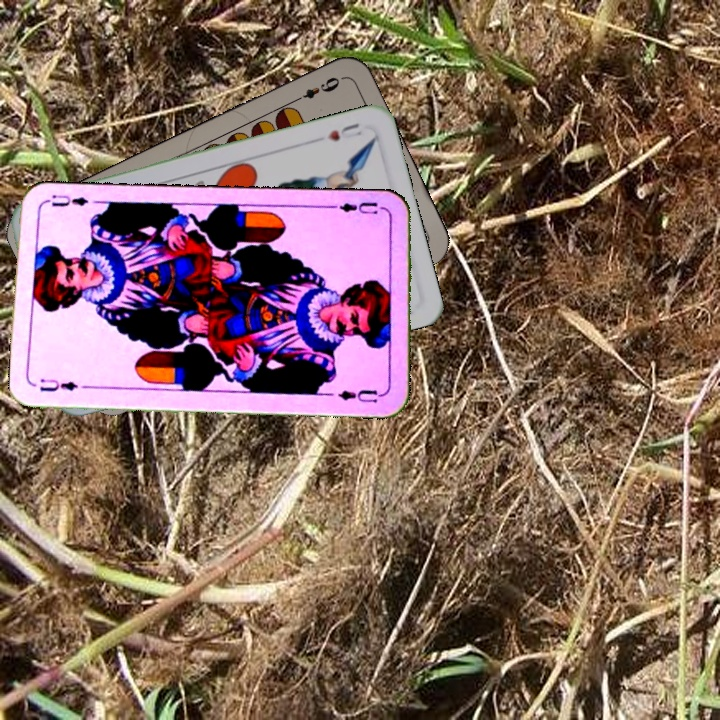E9: (289, 73, 345, 105)
EU: (328, 198, 380, 220), (36, 375, 81, 394)
HU: (323, 119, 365, 144)
